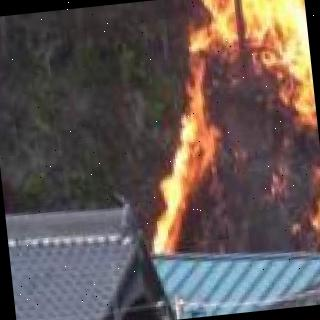fire: (137, 0, 320, 275)
